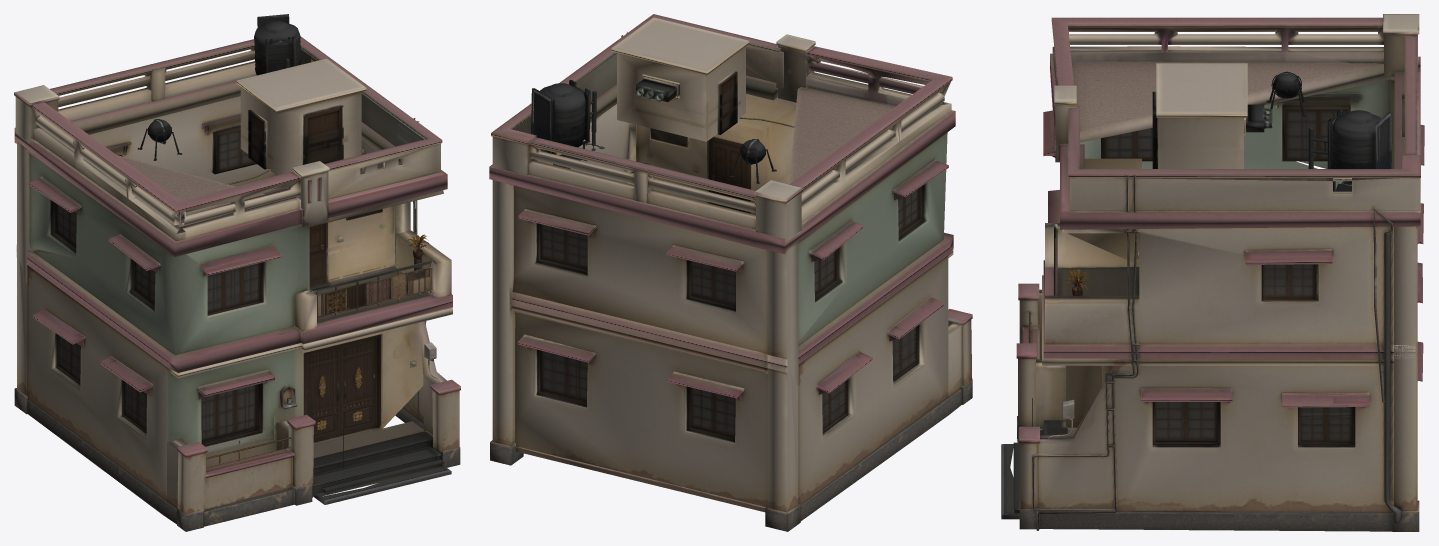
File: two-story+house+3d+model.glb
The picture shows the model from 3 angles, left to right: view 1: azimuth 30°, elevation 25°; view 2: azimuth 150°, elevation 25°; view 3: azimuth 270°, elevation 25°; orthographic projection. The views are drawn at different scales.
Visible parts, largest first — view 1: tripo_node_00fb294a-9f07-4c61-a67f-1c814c40b1a1; view 2: tripo_node_00fb294a-9f07-4c61-a67f-1c814c40b1a1; view 3: tripo_node_00fb294a-9f07-4c61-a67f-1c814c40b1a1.
Part boxes in pixels (bbox=[...]): tripo_node_00fb294a-9f07-4c61-a67f-1c814c40b1a1: bbox=[14, 14, 460, 531]; tripo_node_00fb294a-9f07-4c61-a67f-1c814c40b1a1: bbox=[489, 14, 972, 531]; tripo_node_00fb294a-9f07-4c61-a67f-1c814c40b1a1: bbox=[1001, 14, 1424, 531].
Size of the model in its own units: 0.9175 by 0.9995 by 0.9663.
Materials: 1 (1 with a texture image).
